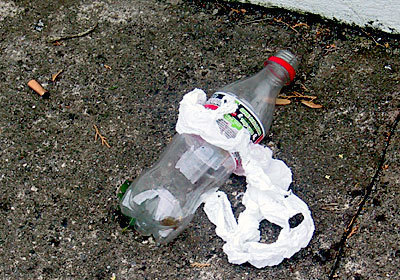litter: (121, 49, 315, 267), (27, 80, 49, 97)
